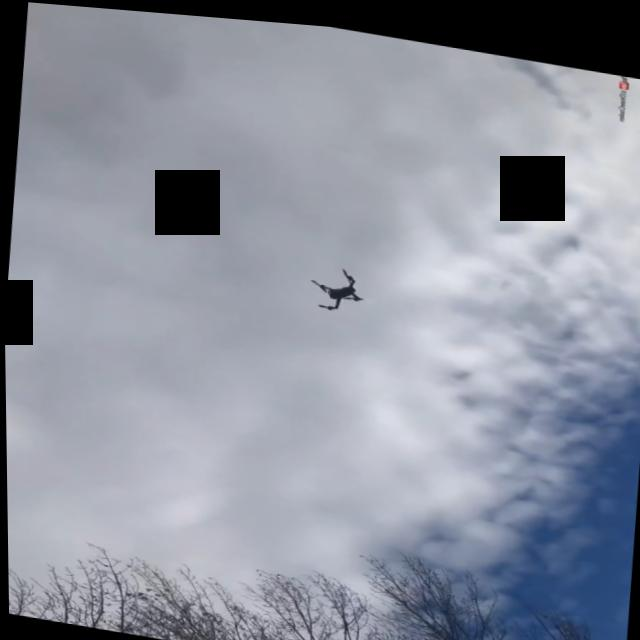Vehicle: (299, 255, 369, 311)
